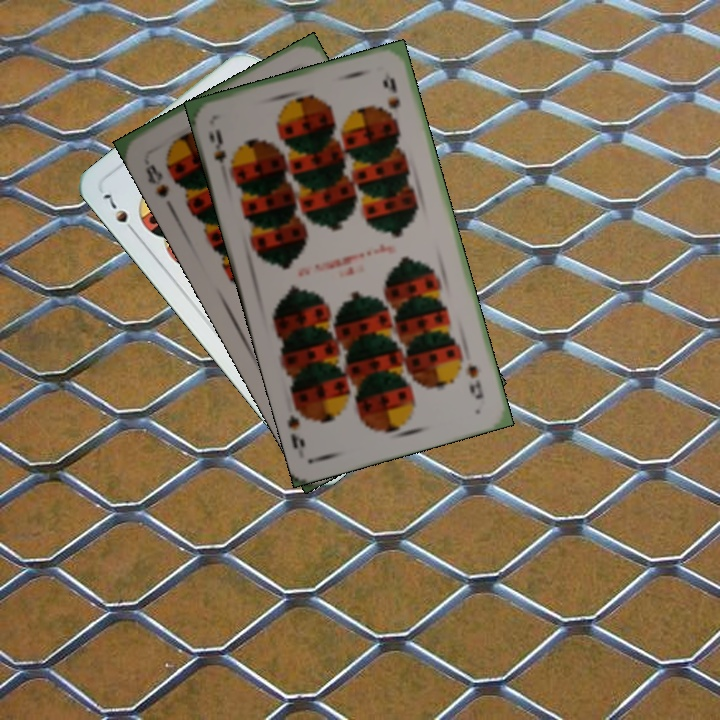S7: (99, 189, 140, 238)
S8: (141, 160, 172, 200)
S9: (205, 124, 238, 176), (463, 358, 486, 402)
